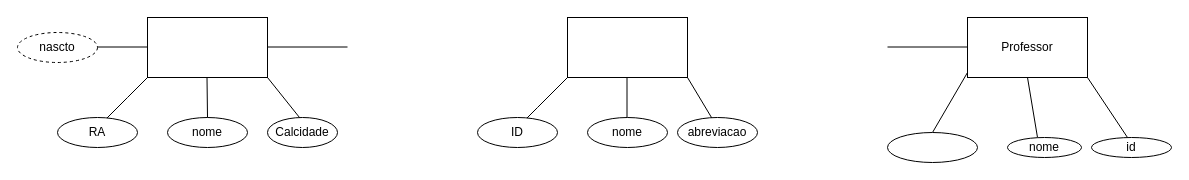
The diagram is 1189 pixels wide and 180 high, and some of its shapes have lost their labels. The centre of each missing label's shape, as x and y in pixels:
"Aluno" belongs at [207,47].
"especialidade" belongs at [932,147].
"Turma" belongs at [627,47].
